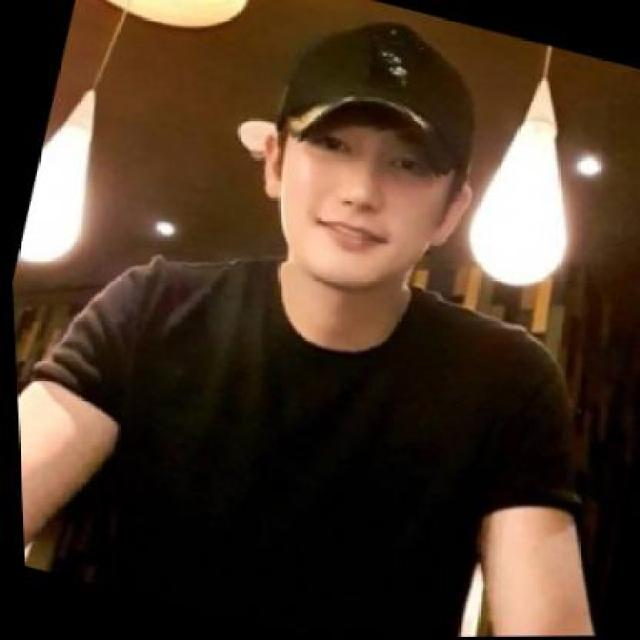hat: (266, 0, 500, 183)
